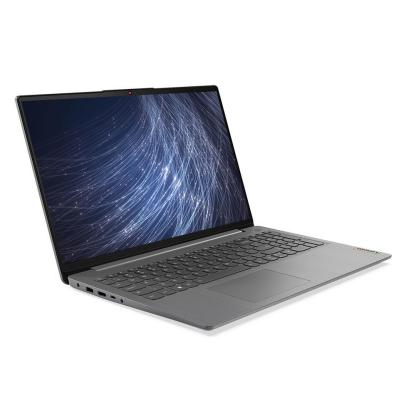NOTEBOOK: (8, 86, 414, 355)
